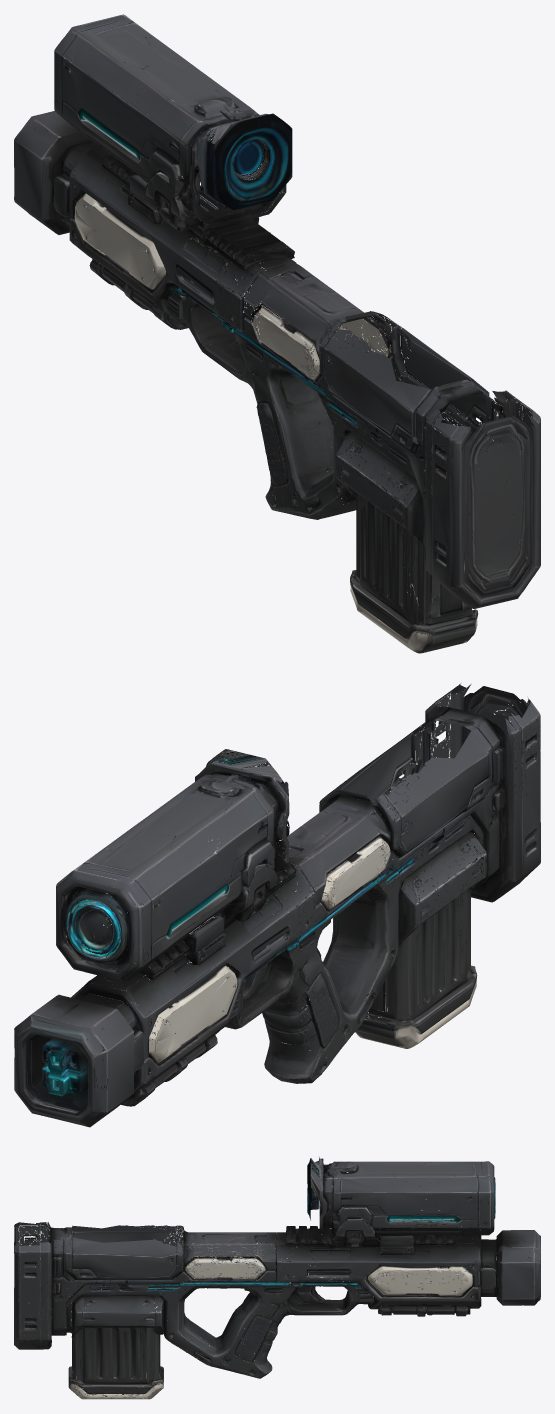
Rendered from em40t1_viewmodel_reload.glb.
The picture shows the model from 3 angles, top to bottom: view 1: azimuth 30°, elevation 25°; view 2: azimuth 150°, elevation 25°; view 3: azimuth 270°, elevation 25°; orthographic projection. The views are drawn at different scales.
Visible parts, largest first — view 1: Body, DetachableMagazine; view 2: Body, DetachableMagazine; view 3: Body, DetachableMagazine.
Part boxes in pixels (<box>): Body: <box>14,14,540,608</box>; DetachableMagazine: <box>339,473,478,653</box>; Body: <box>14,683,540,1127</box>; DetachableMagazine: <box>355,848,484,1048</box>; Body: <box>14,1157,540,1378</box>; DetachableMagazine: <box>67,1303,163,1399</box>.
Size of the model in its own units: 0.1257 by 0.4805 by 1.
Materials: 2 (2 with a texture image).
